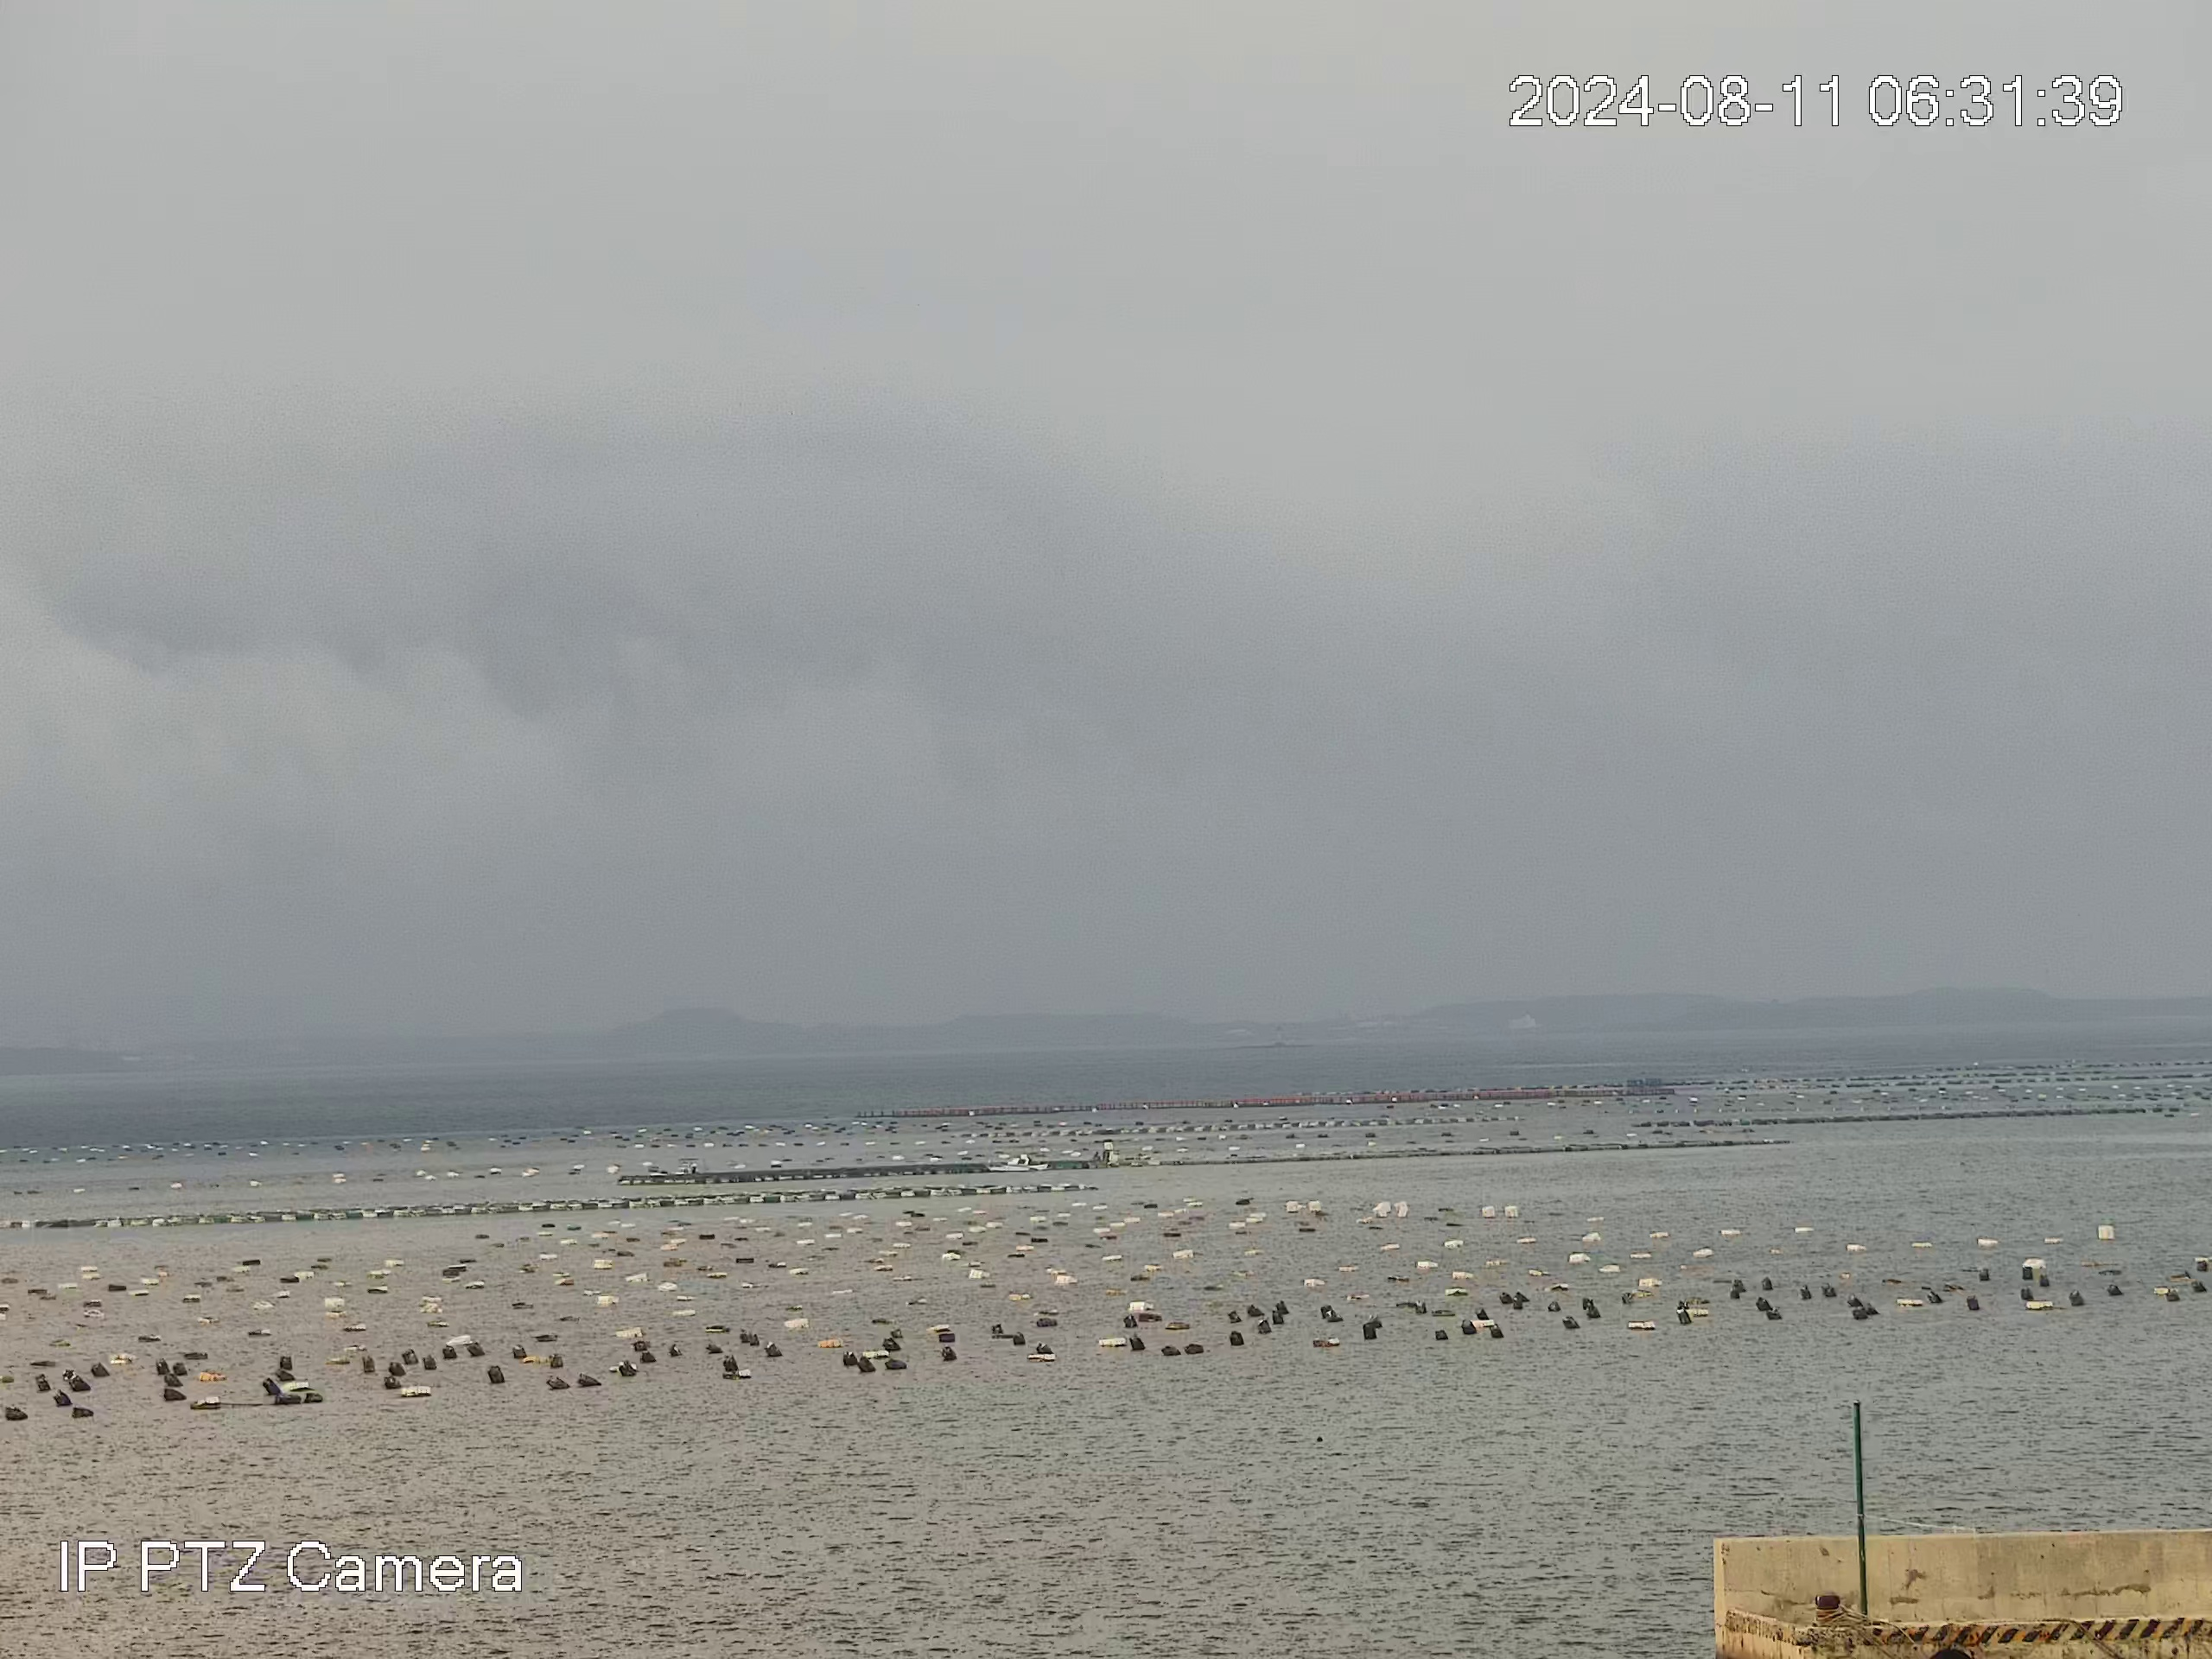boat: (983, 1153, 1052, 1173)
